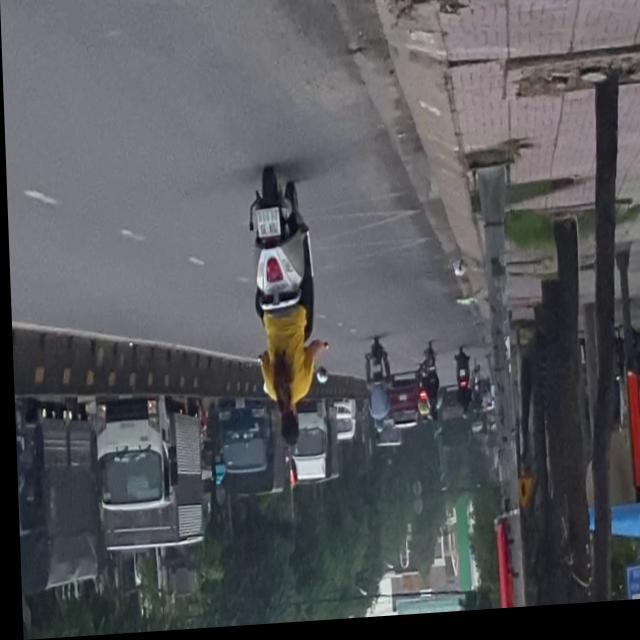licenseplate: (242, 170, 321, 458)
motorcyclist: (272, 413, 296, 452)
nohelmet: (255, 212, 278, 243)
